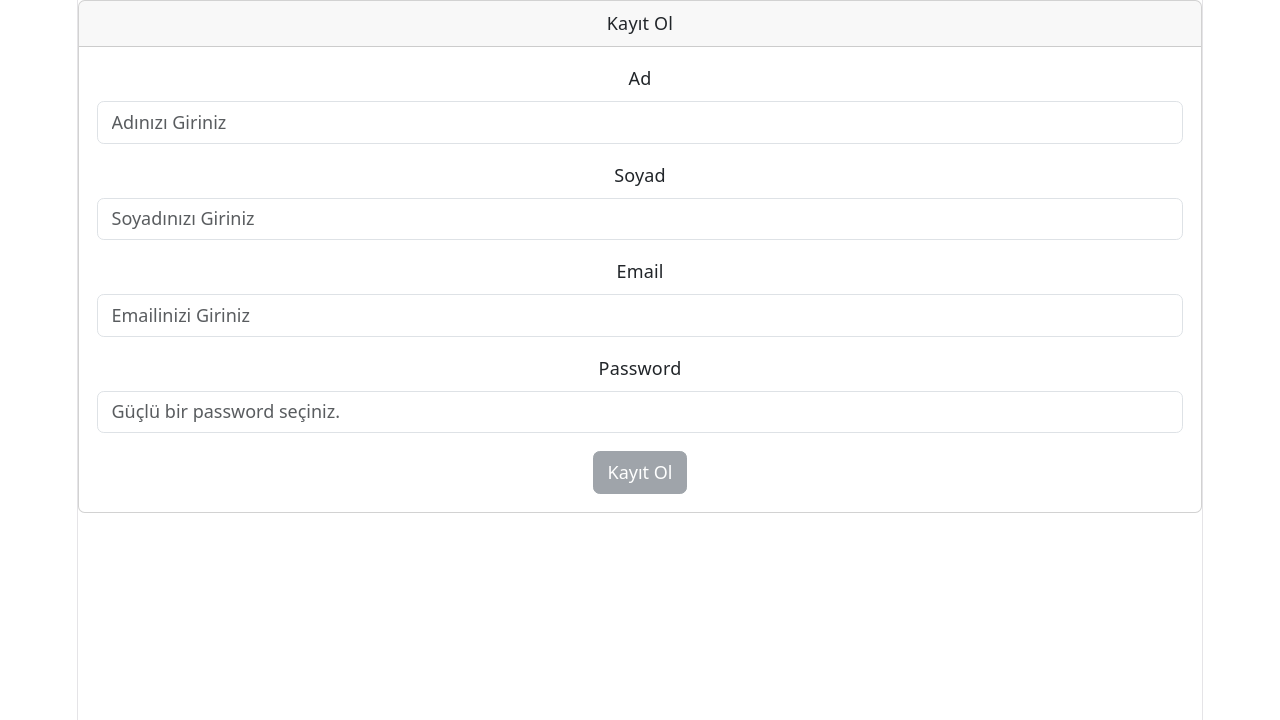
Test: Register Page › Error Messages › Email input throws errors for emre@wit.
Type "emre@wit." into the field with test id "email-input" at (640, 316), box left=97, top=294, right=1183, bottom=337
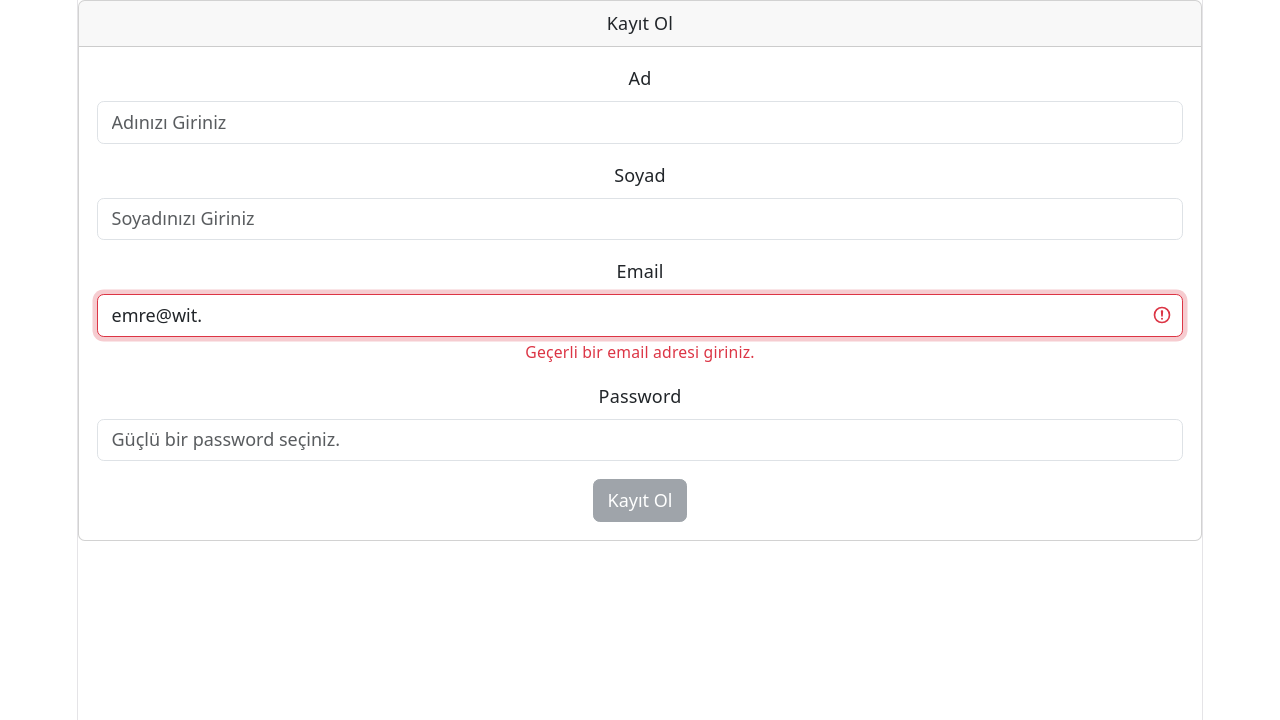
Expected: the text "Geçerli bir email adresi giriniz." is shown, left=525, top=341, right=755, bottom=363
